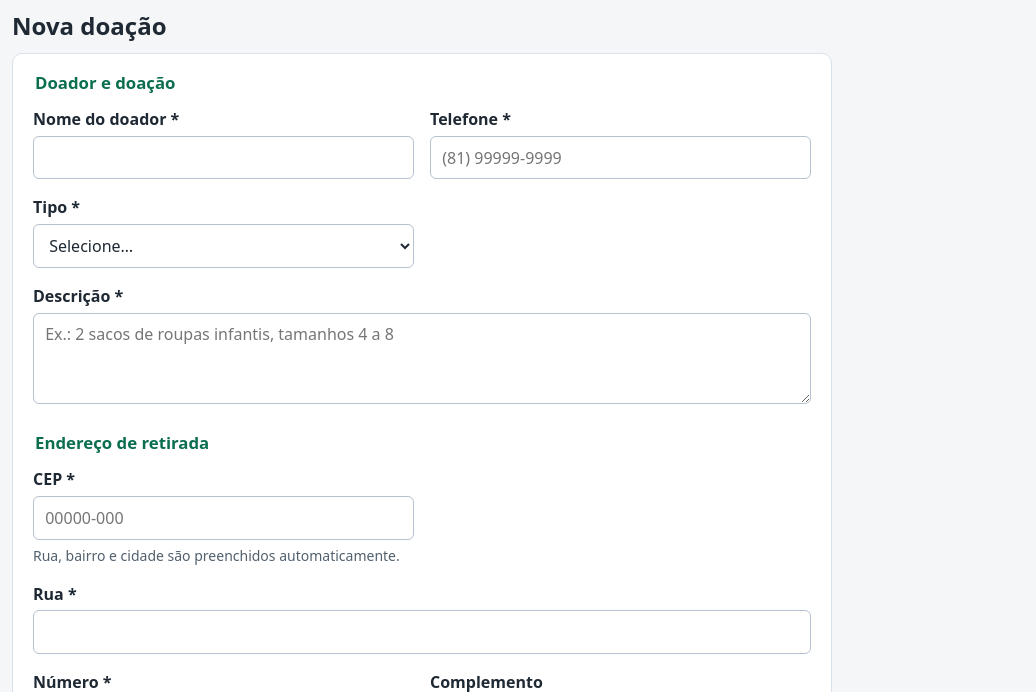
Test: endereço digitado à mão antes do CEP não é apagado se a busca falhar
In the field labelled "Rua": [422, 632] box [33,610,811,654], type "Rua Manual"
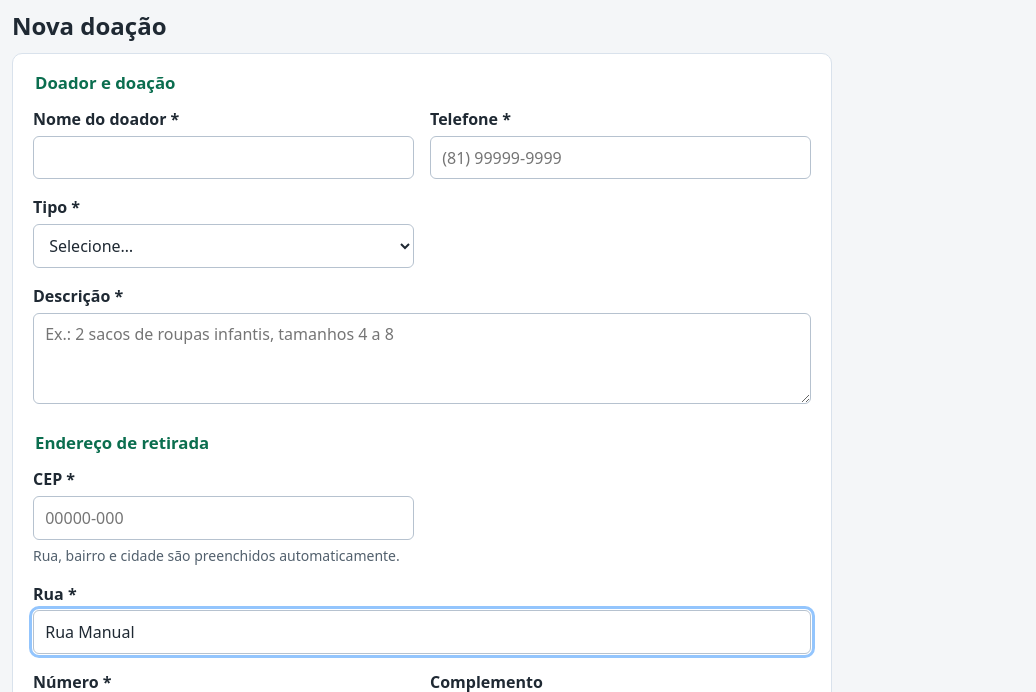
In the field labelled "CEP": [224, 518] box [33,496,414,540], type "50030230"
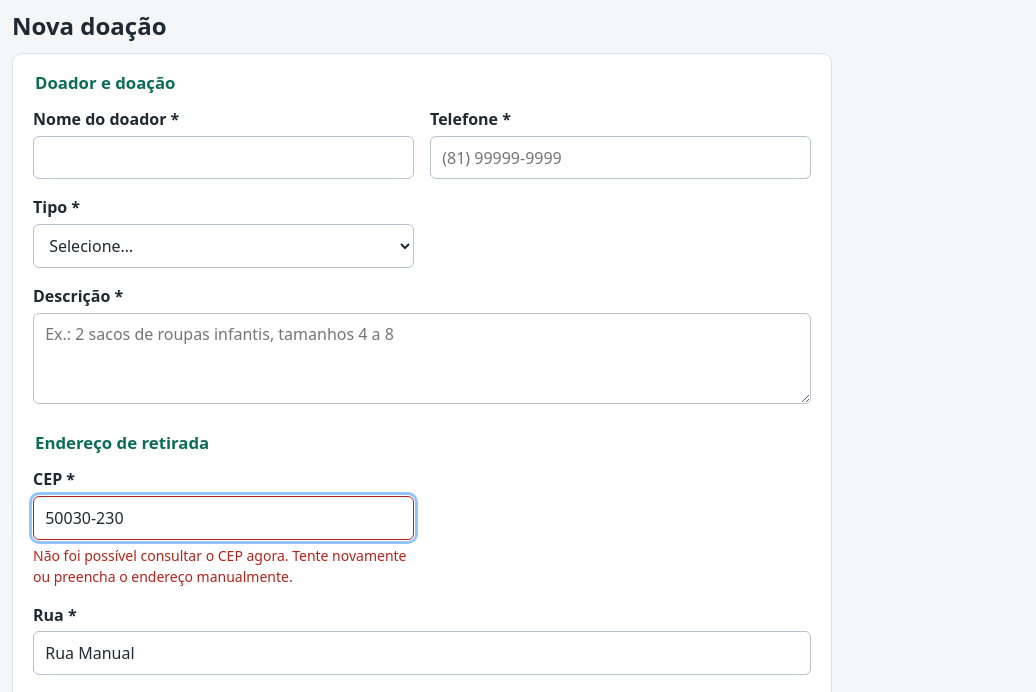
Expected: the text "Não foi possível consultar o CEP agora" is shown, [33,546,406,586]
